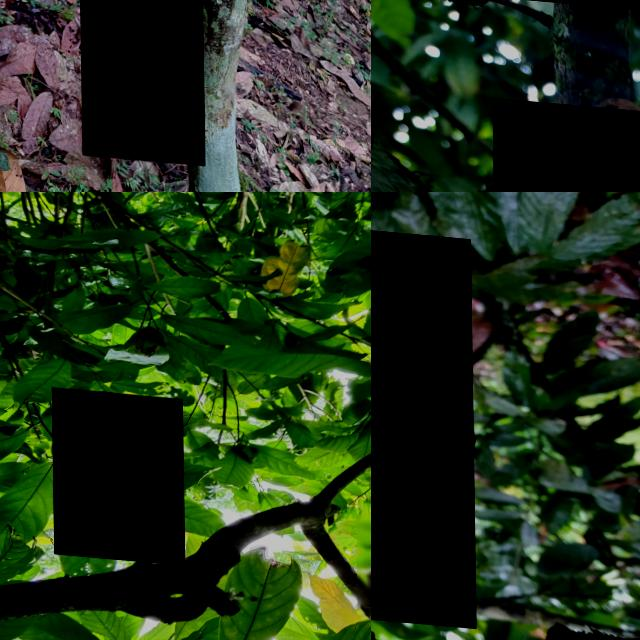Monilia: (371, 216, 474, 620), (492, 95, 640, 192)
Sana: (51, 387, 184, 562), (76, 0, 203, 158)
